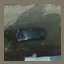car: (15, 27, 49, 41)
